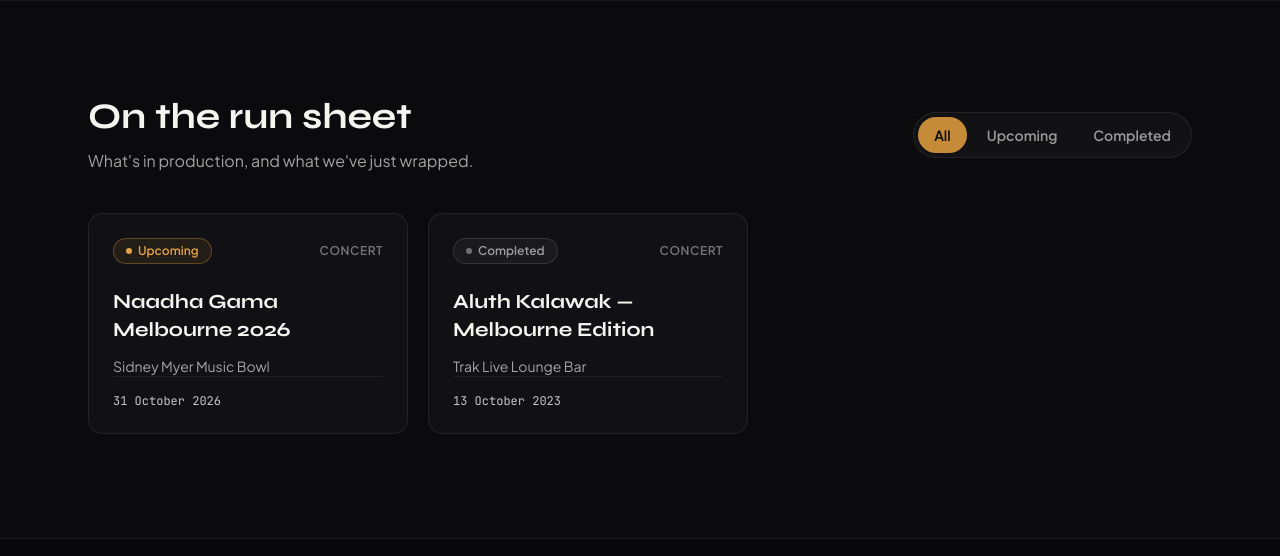
RunSheet › filters to only completed events when the Completed tab is selected
This screenshot has width=1280, height=556.
Click the button "Completed": [1132, 135] box [1077,117,1187,153]
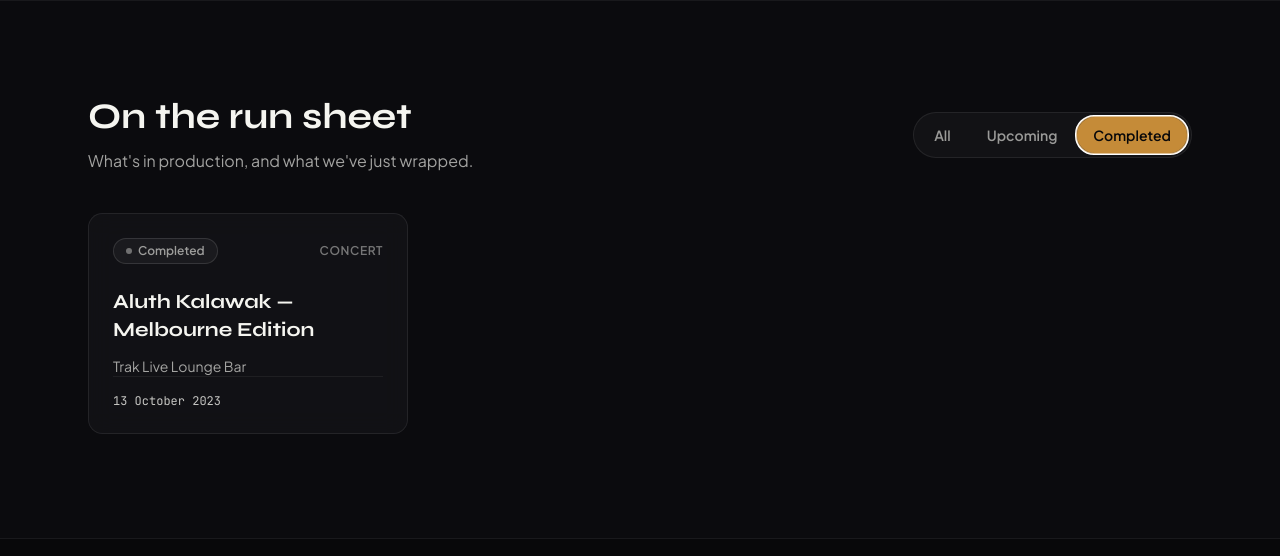
expect the text "Aluth Kalawak — Melbourne Edition" is shown: met, box [113,289,314,342]
expect the link "Naadha Gama Melbourne 2026" is gone: met
